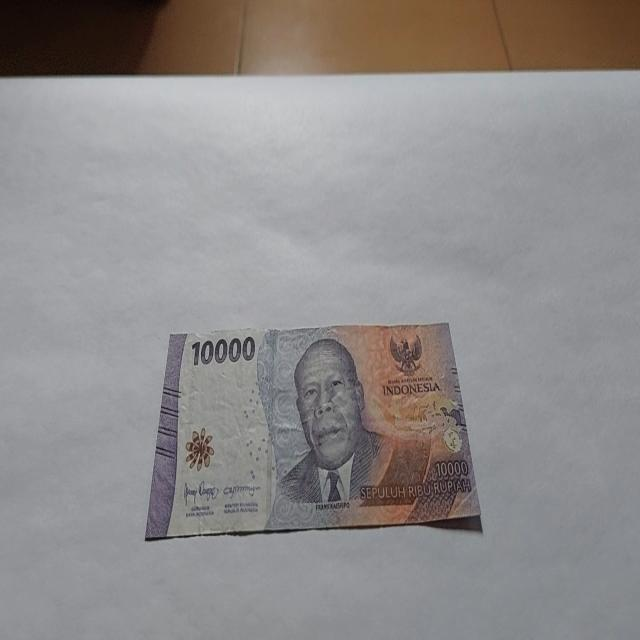sepuluh ribu rupiah: (144, 320, 482, 542)
